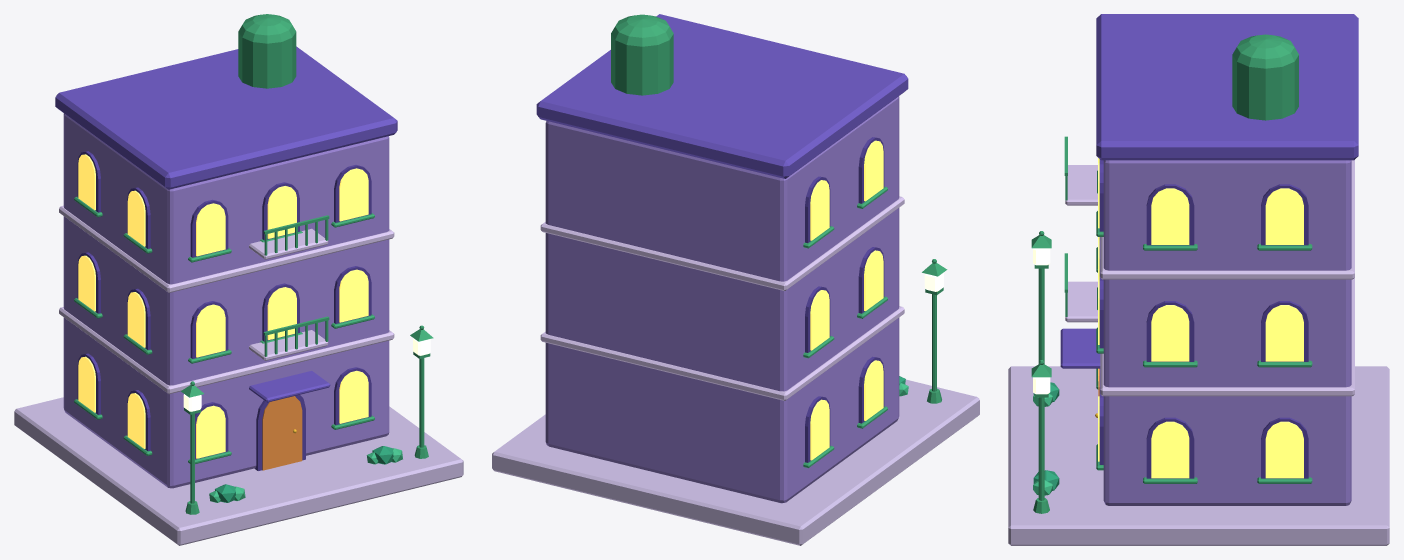
The model's file is bld_apartment.glb.
The picture shows the model from 3 angles, left to right: view 1: azimuth 30°, elevation 25°; view 2: azimuth 150°, elevation 25°; view 3: azimuth 270°, elevation 25°; orthographic projection. The views are drawn at different scales.
Visible parts, largest first — view 1: bld_apartment; view 2: bld_apartment; view 3: bld_apartment.
Part boxes in pixels (x1,y1,x2,y2): bld_apartment: (14,14,463,545); bld_apartment: (492,14,979,545); bld_apartment: (1008,14,1389,545).
Size of the model in its own units: 8 by 10.63 by 8.
